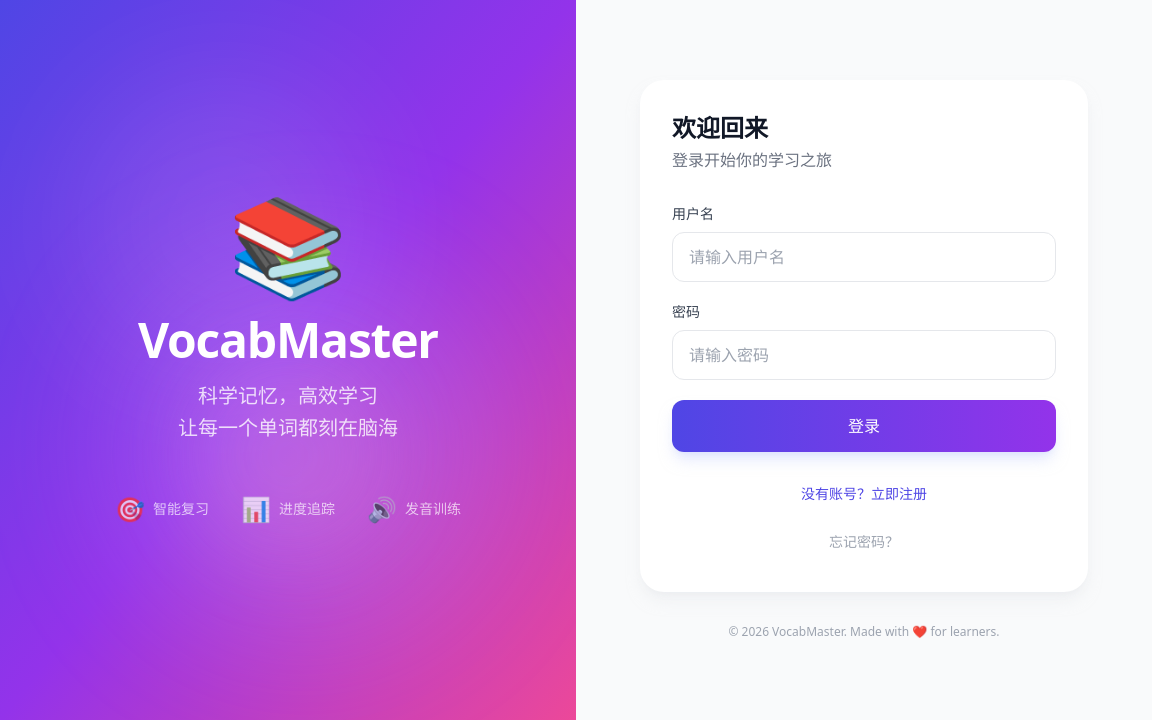
Test: LoginPanel Component - REQ-UI-001 › REQ-UI-001: Form Display and Toggle › REQ-UI-001: should toggle back to login form from register
Note: Switch to register
What coordinates should you click on to do the following:
click the button "没有账号？立即注册"
I would click on:
 (864, 494)
Its box is [672,476,1056,512].
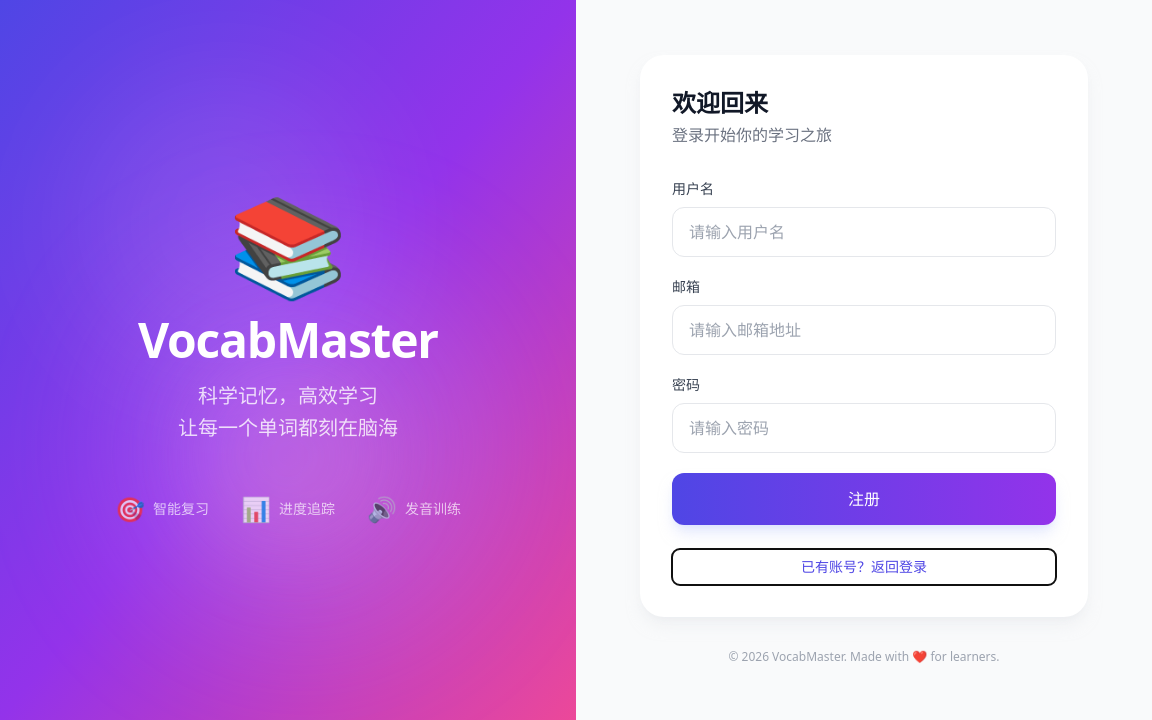
expect the text "邮箱" is shown: met, box [672,277,700,296]
Note: Switch back to login
What coordinates should you click on to do the following:
click the button "已有账号？返回登录"
I would click on:
 (864, 567)
Its box is [672,549,1056,585].
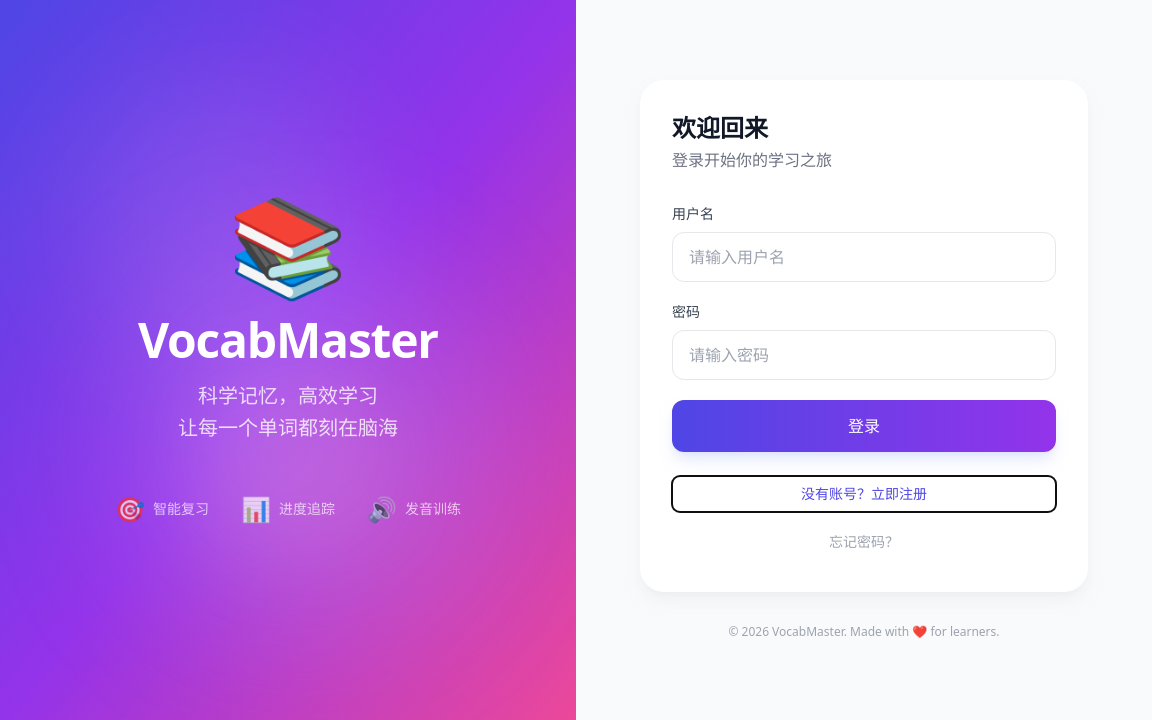
expect the text "邮箱" is gone: met
expect the button "登录" is shown: met, box [672,400,1056,452]
